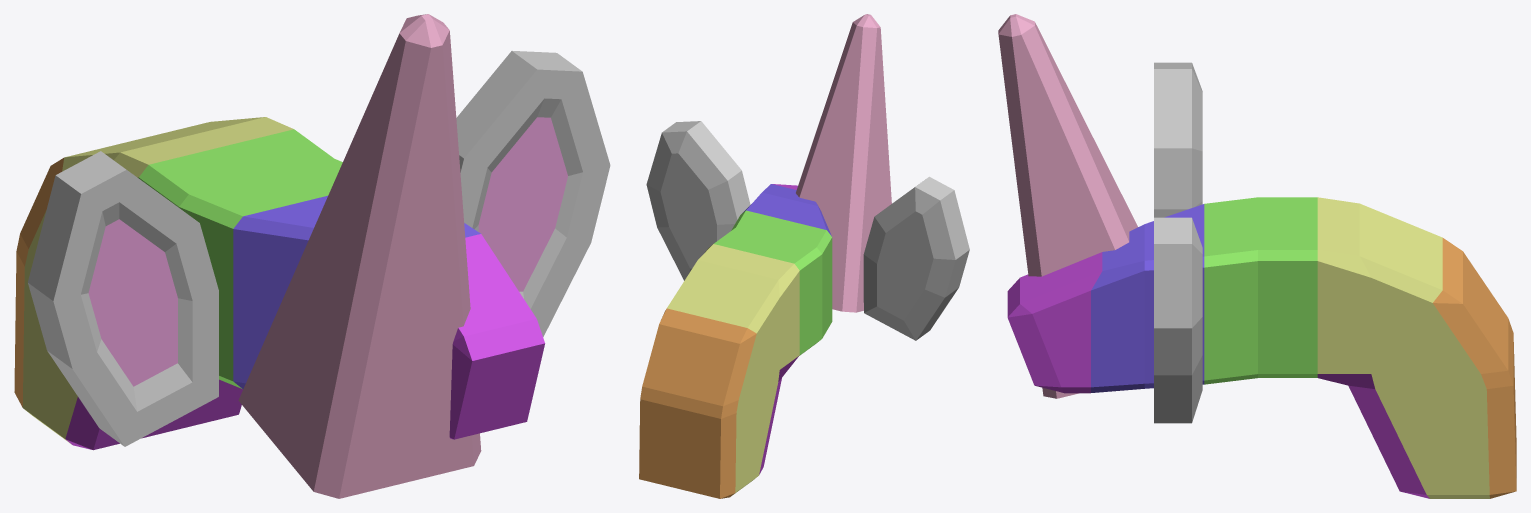
Rendered from unicornHorn.fbx.
3 views of the same model, side by side, from view 1: azimuth 30°, elevation 25°; view 2: azimuth 150°, elevation 25°; view 3: azimuth 270°, elevation 25° (orthographic). The views are drawn at different scales.
Visible parts, largest first — view 1: Unicorn Horn; view 2: Unicorn Horn; view 3: Unicorn Horn.
Boxes of the visible parts, left/top/right/bottom form: Unicorn Horn: left=14, top=14, right=610, bottom=498; Unicorn Horn: left=639, top=14, right=969, bottom=498; Unicorn Horn: left=998, top=14, right=1516, bottom=498.
Bounding box in the file's own units: 54.07 × 58.76 × 57.24.
